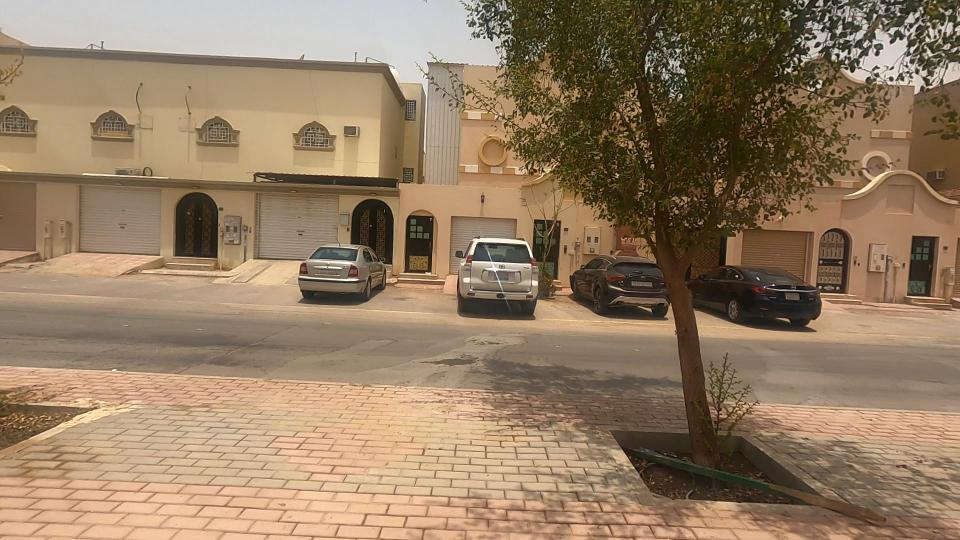GARBAGE: (581, 423, 871, 530)
